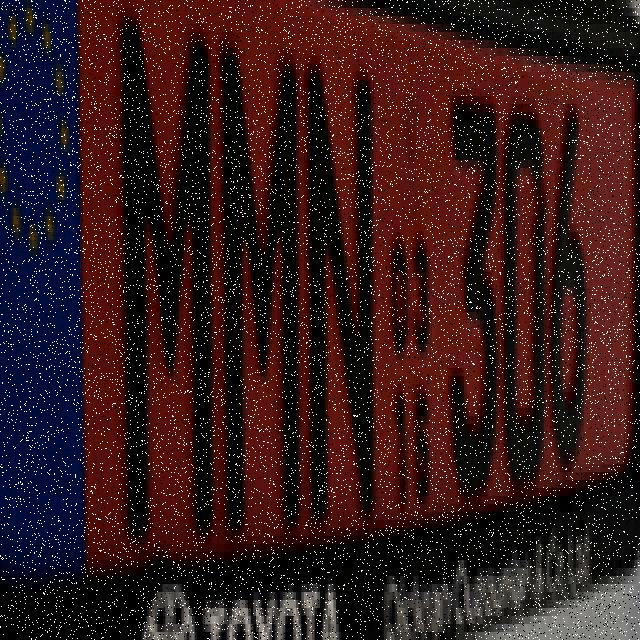licenseplate: (1, 0, 638, 576)
